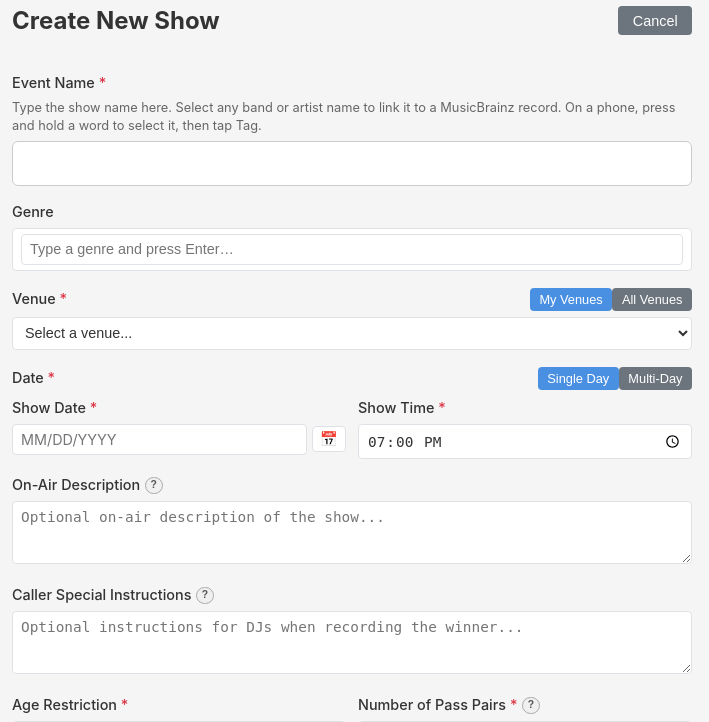
Test: ShowForm › On-Air Description Language Check › should say the warning may be wrong and can be ignored
Type "This legendary band has tickets available." into the text box labelled "On-Air Description". click: (352, 533)
box: left=12, top=501, right=692, bottom=564
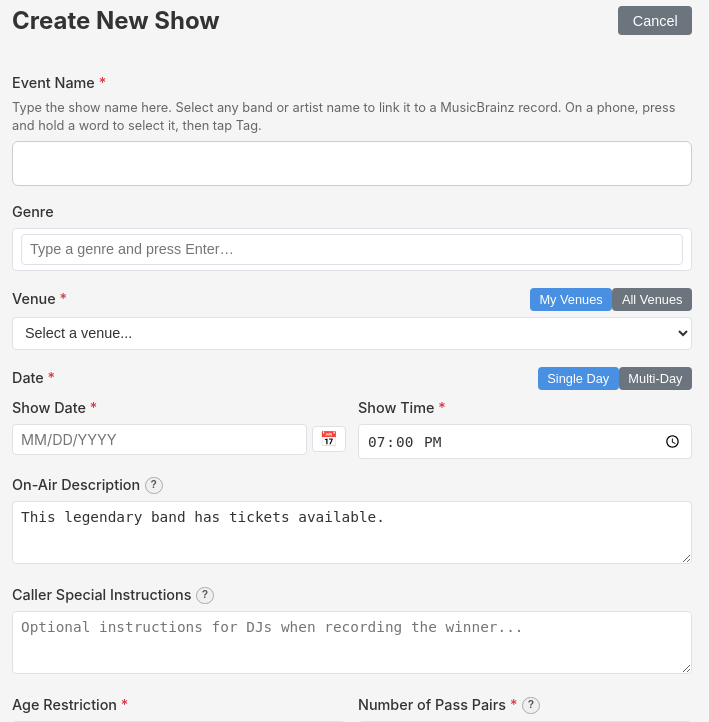
Leave the text box labelled "On-Air Description", box left=12, top=501, right=692, bottom=564
(page scrolled)
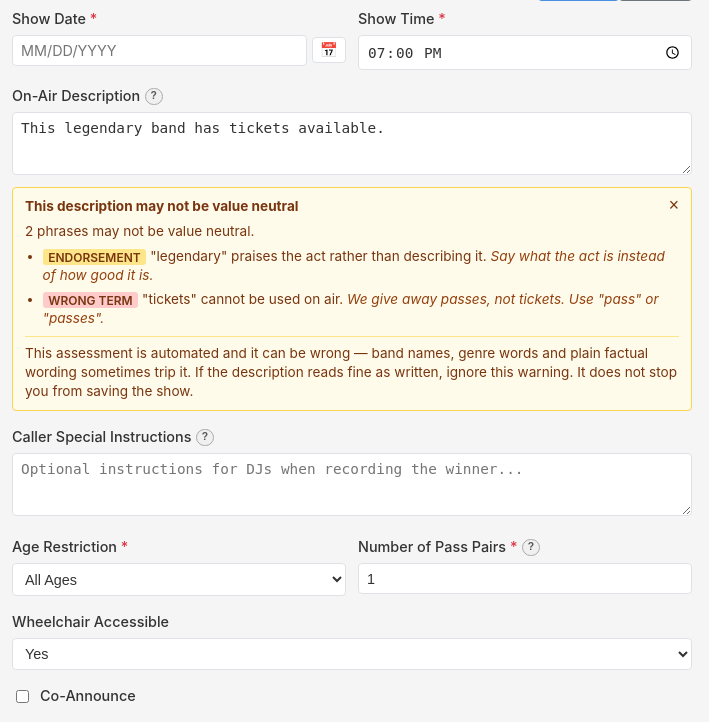
Expected: the text "ignore this warning" is shown, left=25, top=345, right=677, bottom=399
